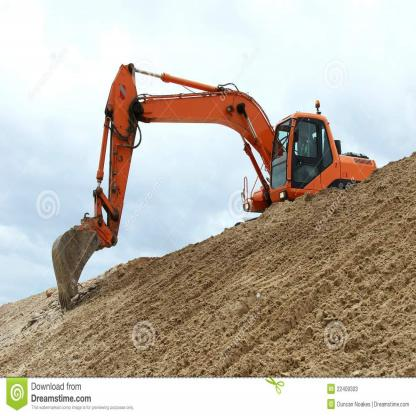excavator: (45, 57, 378, 311)
